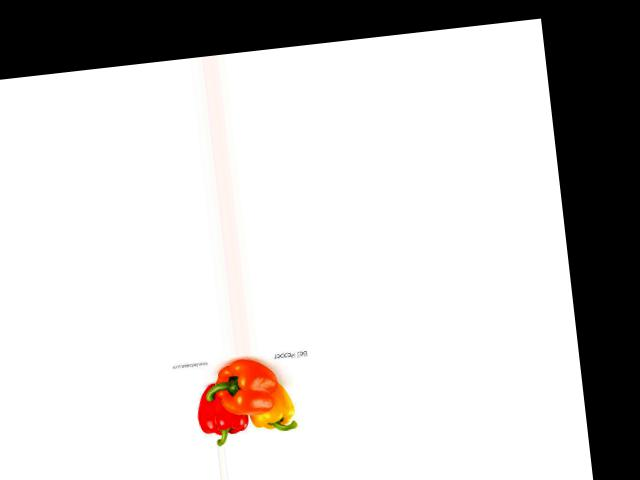bell_pepper: (244, 379, 300, 437)
